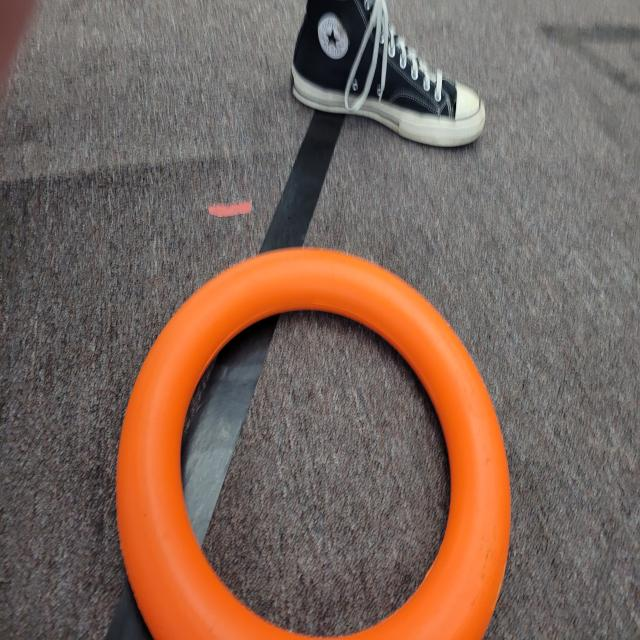note: (94, 239, 556, 640)
